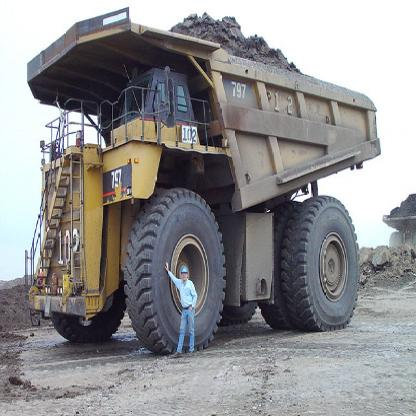dump_truck: (22, 8, 384, 353)
person: (164, 257, 203, 360)
